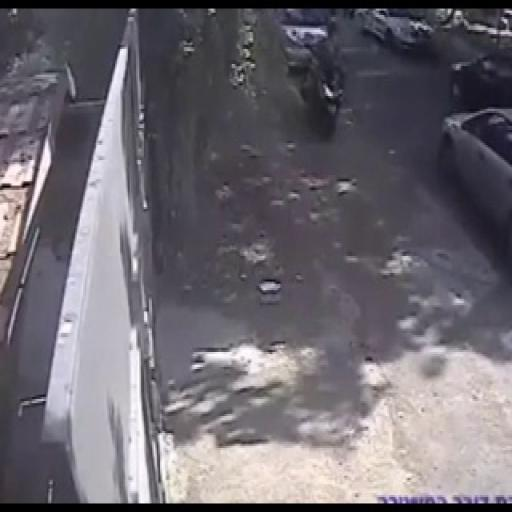Car: (442, 95, 512, 234), (361, 6, 437, 60), (451, 45, 512, 107), (279, 10, 330, 74)
Motor: (300, 30, 352, 137)
Not Accident: (277, 4, 353, 140)
